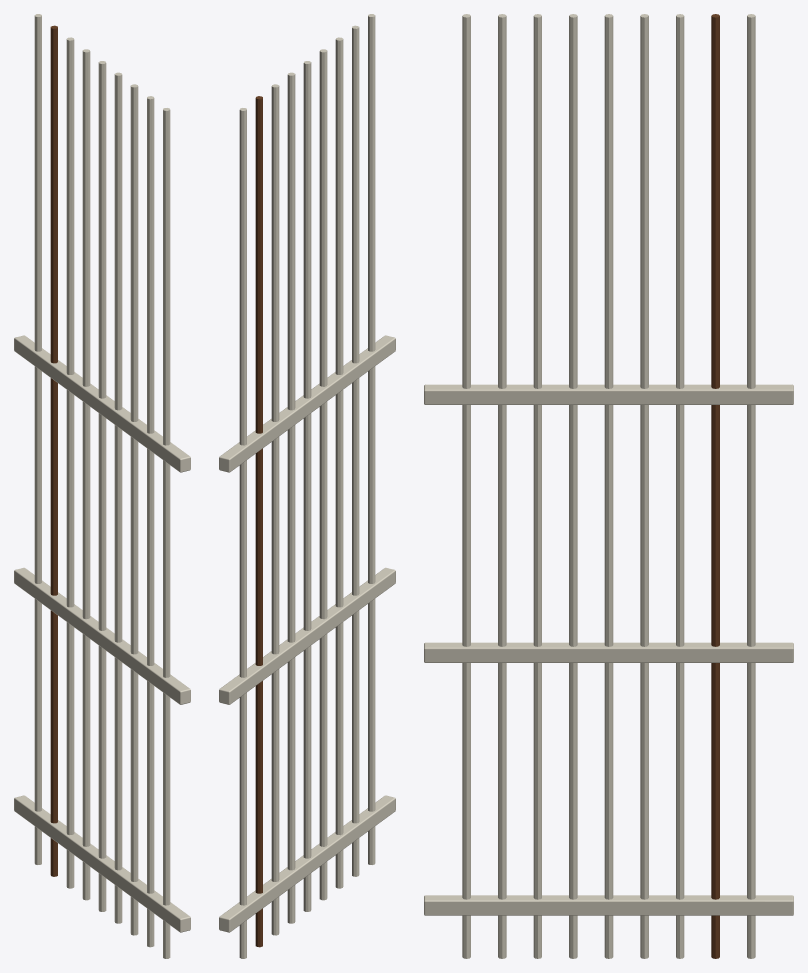
File: bars_w1.glb
3 views of the same model, side by side, from view 1: azimuth 30°, elevation 25°; view 2: azimuth 150°, elevation 25°; view 3: azimuth 270°, elevation 25° (orthographic). The views are drawn at different scales.
Parts seen in each view (by area): view 1: stab3, stab4, stab2, stab5, stab6, stab7, stab8, stab0, stab1, riegel2.1, riegel0.12, riegel1.1; view 2: stab5, stab4, stab6, stab2, stab3, stab1, stab0, stab8, stab7, riegel2.1, riegel0.12, riegel1.1; view 3: stab4, stab0, stab1, stab3, stab5, stab7, stab8, stab2, stab6, riegel0.12, riegel1.1, riegel2.1.
Boxes of the visible parts, x1,y1,x2,y2 form: stab3: (114, 72, 122, 923); stab4: (98, 61, 106, 911); stab2: (130, 84, 138, 935); stab5: (82, 49, 90, 900); stab6: (66, 37, 74, 888); stab7: (50, 25, 57, 876); stab8: (34, 14, 41, 864); stab0: (163, 108, 170, 958); stab1: (147, 96, 154, 947); riegel2.1: (14, 335, 190, 472); riegel0.12: (14, 795, 190, 932); riegel1.1: (14, 567, 190, 704); stab5: (287, 72, 295, 923); stab4: (303, 61, 311, 911); stab6: (271, 84, 279, 935); stab2: (335, 37, 343, 888); stab3: (319, 49, 327, 900); stab1: (352, 25, 359, 876); stab0: (368, 14, 375, 864); stab8: (239, 108, 246, 958); stab7: (255, 96, 262, 947); riegel2.1: (219, 335, 395, 472); riegel0.12: (219, 795, 395, 932); riegel1.1: (219, 567, 395, 704); stab4: (604, 14, 613, 958); stab0: (462, 14, 470, 958); stab1: (498, 14, 506, 958); stab3: (569, 14, 577, 958); stab5: (640, 14, 648, 958); stab7: (711, 14, 719, 958); stab8: (747, 14, 755, 958); stab2: (533, 14, 541, 958); stab6: (676, 14, 684, 958); riegel0.12: (424, 895, 793, 915); riegel1.1: (424, 642, 793, 662); riegel2.1: (424, 384, 793, 404).
Size of the model in its own units: 0.05 by 3.65 by 1.3.
